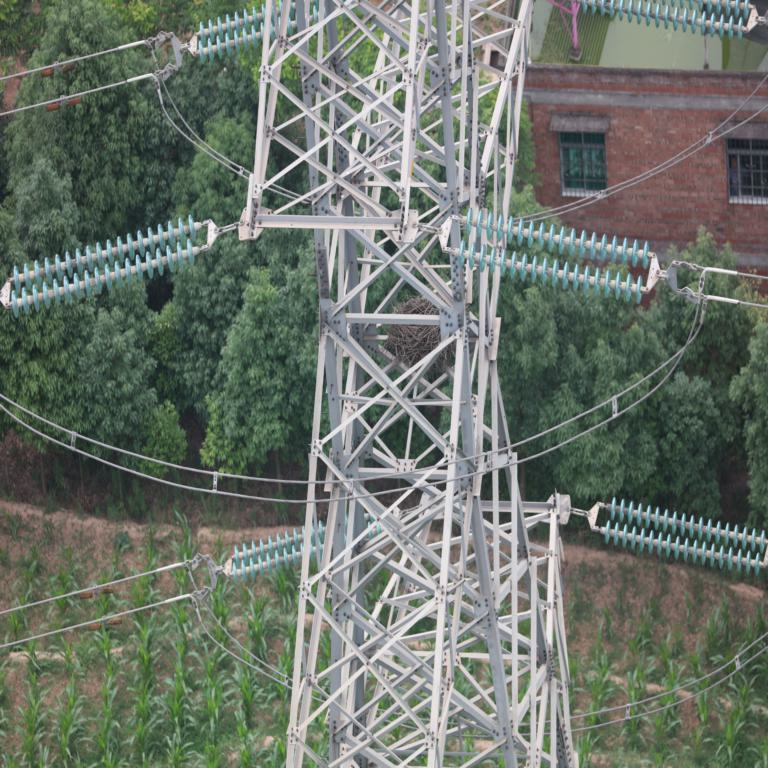nest: (386, 298, 463, 361)
